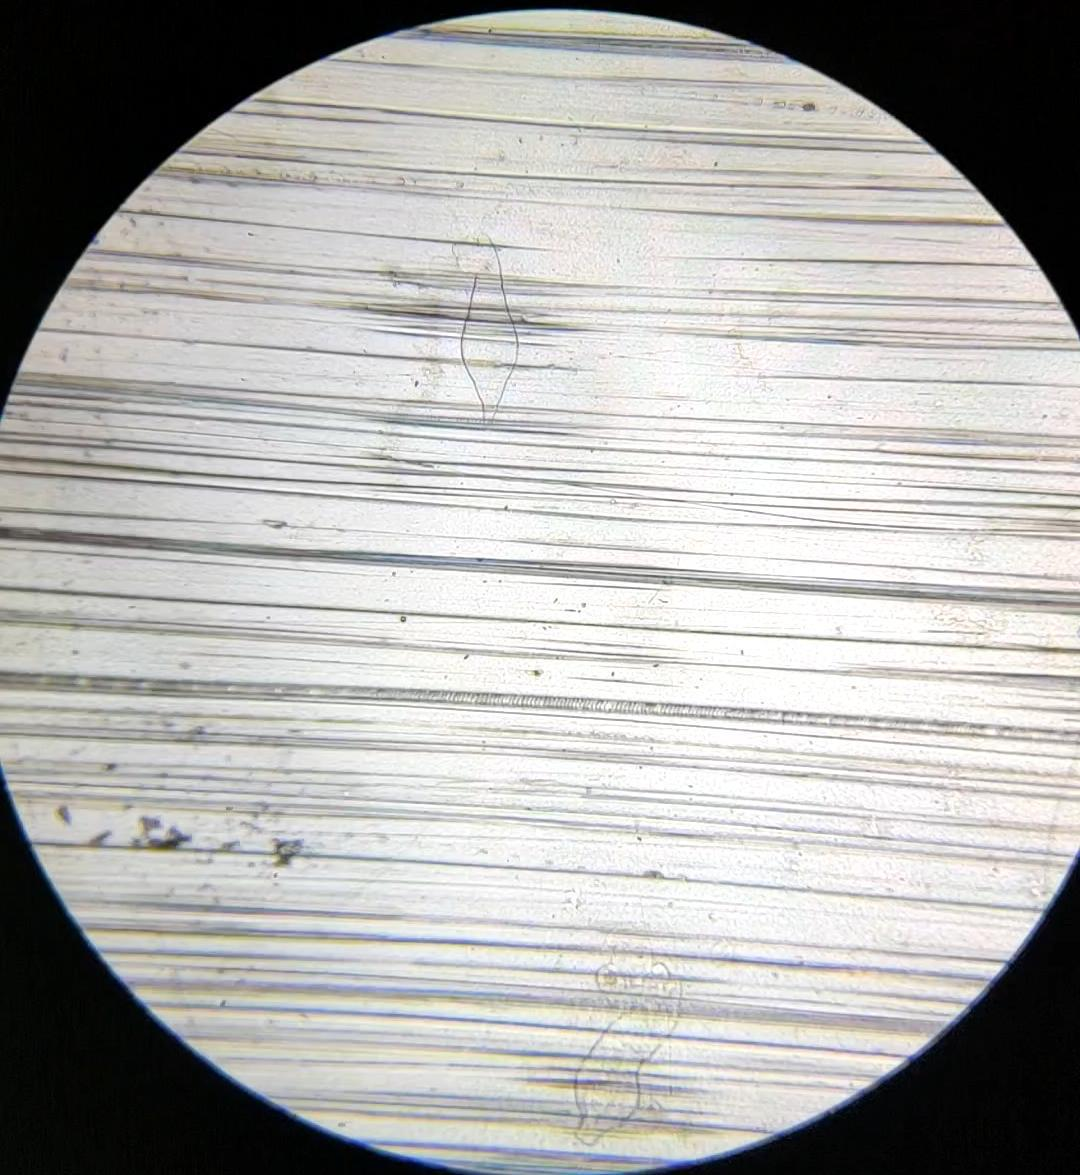Do: (573, 961, 680, 1146), (452, 230, 518, 432)
